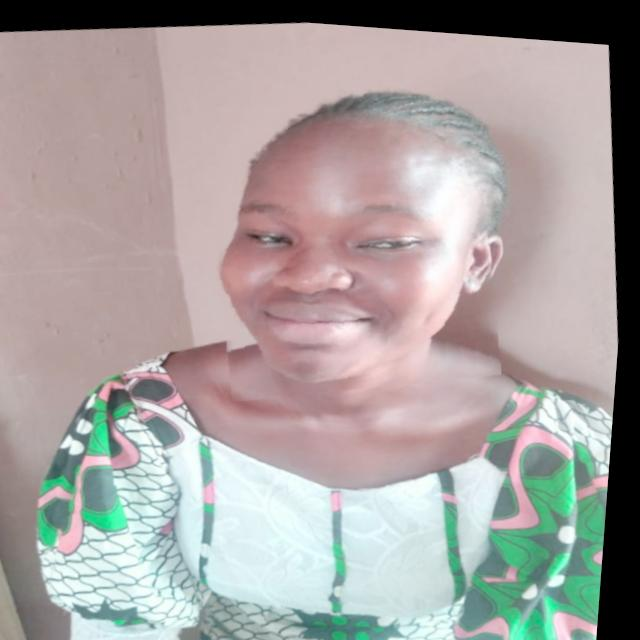happy: (193, 78, 519, 409)
